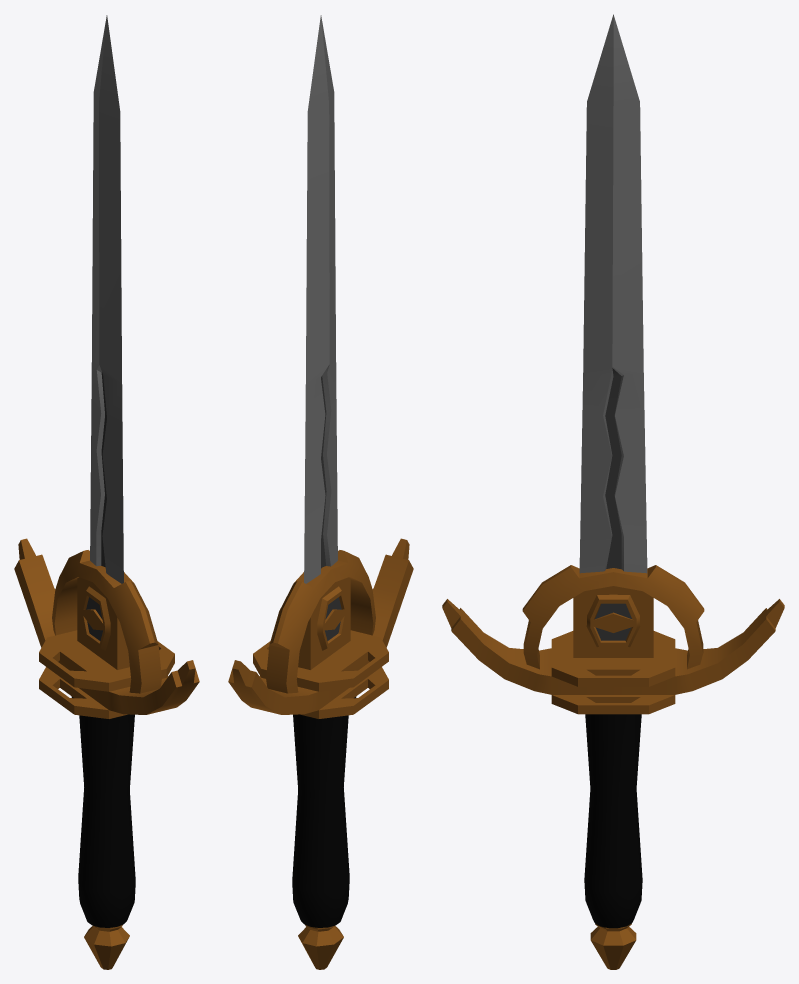
The model's file is SM_Weapons_magic_dagger_1.FBX.
3 renders of one model, left to right at view 1: azimuth 30°, elevation 25°; view 2: azimuth 150°, elevation 25°; view 3: azimuth 270°, elevation 25°, orthographic.
Visible parts, largest first — view 1: SM_Weapons_magic_dagger_1; view 2: SM_Weapons_magic_dagger_1; view 3: SM_Weapons_magic_dagger_1.
Boxes of the visible parts, left/top/right/bottom form: SM_Weapons_magic_dagger_1: left=14, top=15, right=199, bottom=969; SM_Weapons_magic_dagger_1: left=228, top=15, right=413, bottom=969; SM_Weapons_magic_dagger_1: left=442, top=14, right=784, bottom=969.
Bounding box in the file's own units: 11.6 × 34.09 × 105.
